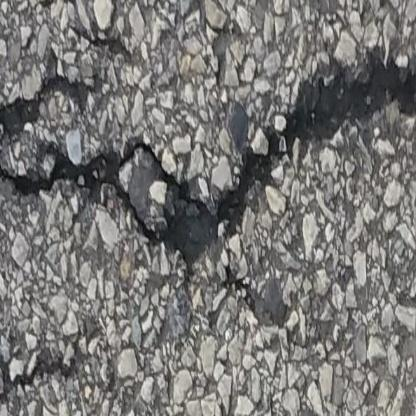Cracks: (0, 50, 416, 259), (0, 325, 21, 371)
